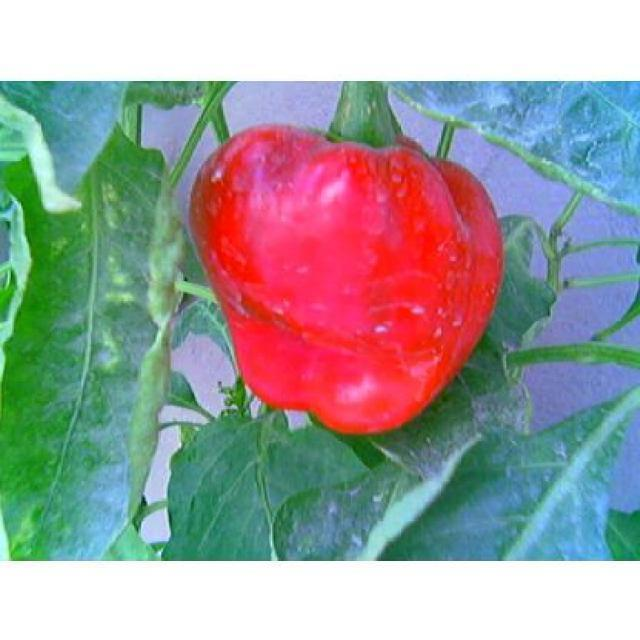Bell Pepper: (187, 80, 502, 434)
